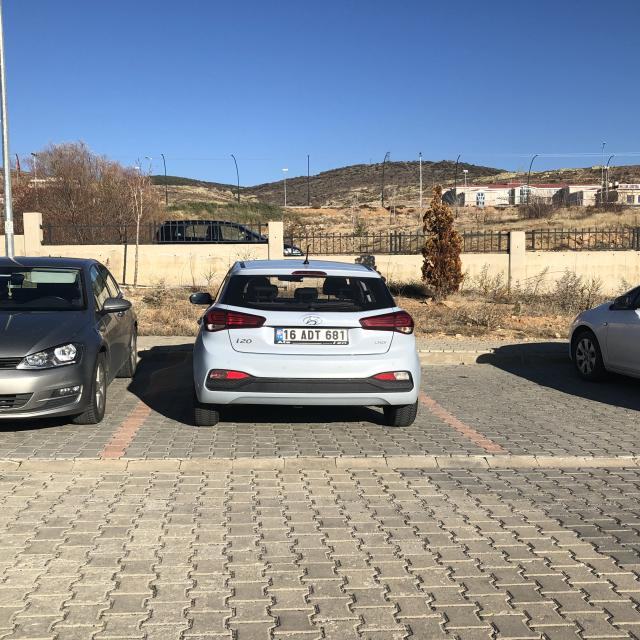license_plate: (275, 328, 348, 342)
